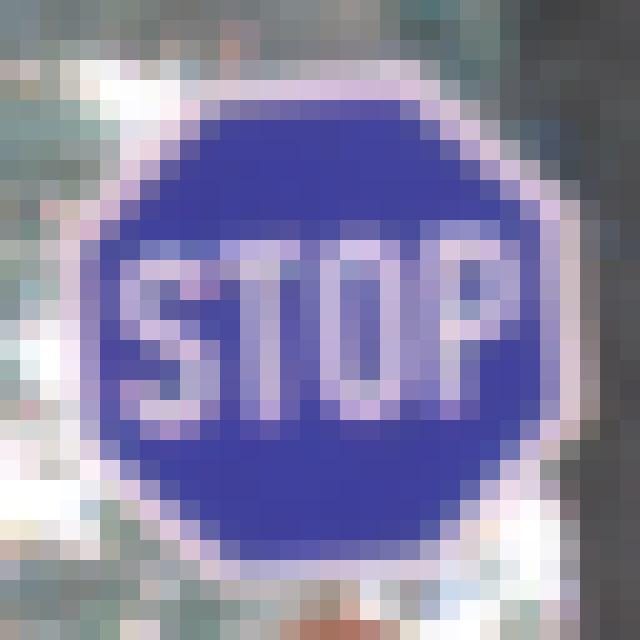STOP: (92, 102, 538, 559)
